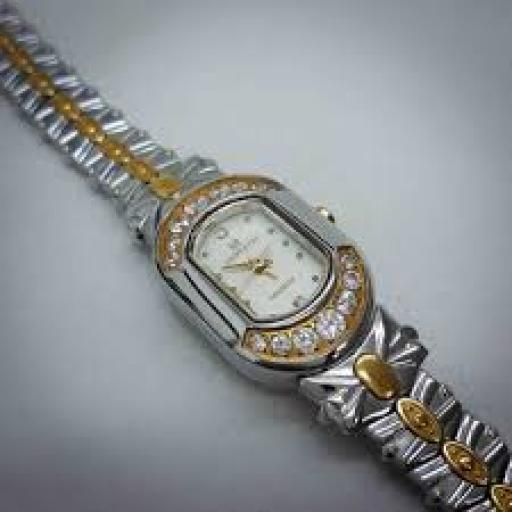KolSaati: (2, 0, 512, 510)
